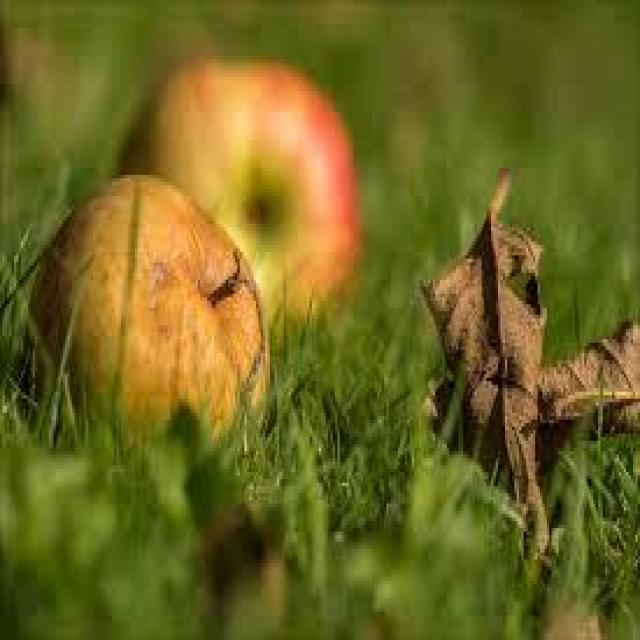maca: (26, 172, 270, 452), (149, 52, 361, 332)
